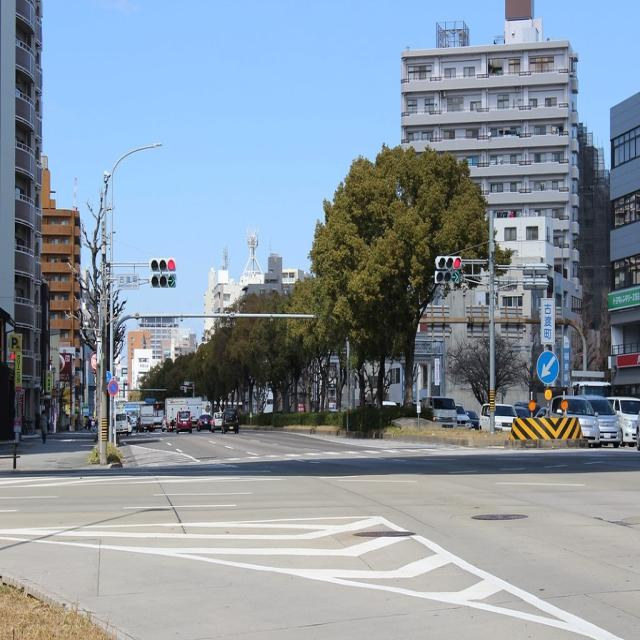green light: (152, 274, 177, 290), (438, 270, 460, 284)
red light: (436, 256, 462, 270), (150, 260, 176, 272)
